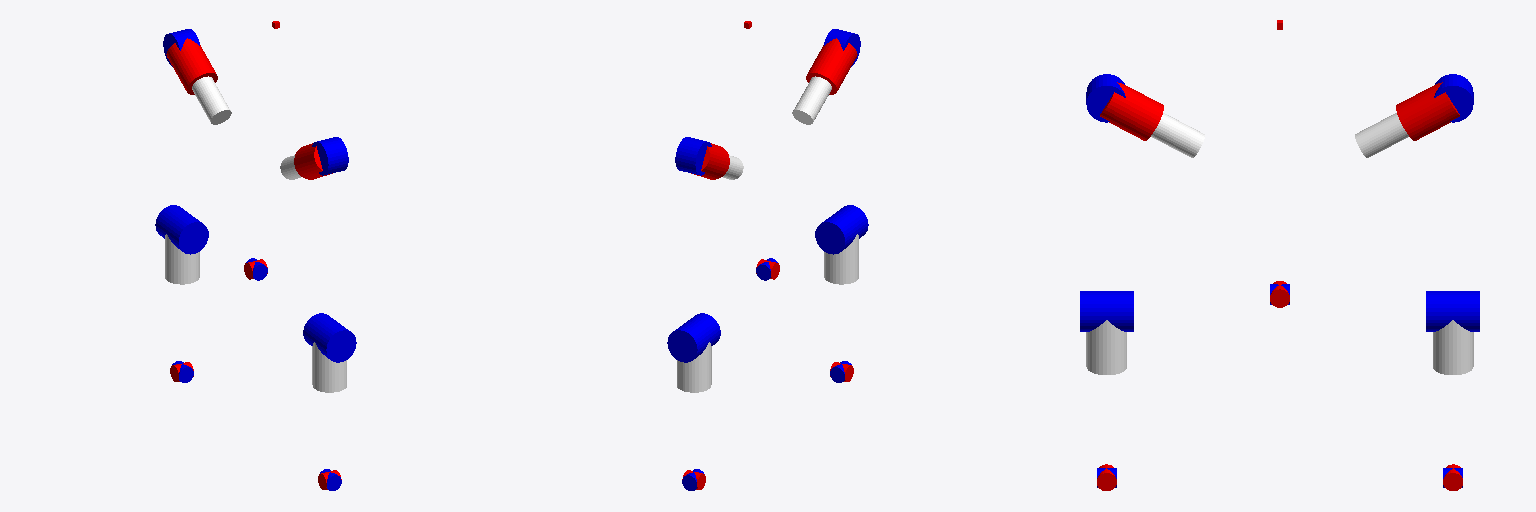
--- Facts derived from the render (not from the file) ---
Views: 3 orthographic renders of the robot side by side, from view 1: azimuth 30°, elevation 25°; view 2: azimuth 150°, elevation 25°; view 3: azimuth 270°, elevation 25°.
Model rx1 with 34 links and 33 joints (22 revolute, 11 fixed), rooted at base_link, posed all joints at 0.
Links seen in each view (by area): view 1: right_elbow_link, left_elbow_link, left_shoul_link, right_forearm_link, left_forearm_link, left_shoul_base_link, right_shoul_rot_link, right_shoul_link; view 2: right_elbow_link, left_elbow_link, right_shoul_link, left_forearm_link, right_forearm_link, right_shoul_base_link, left_shoul_rot_link, left_shoul_link; view 3: right_shoul_link, left_shoul_link, right_elbow_link, left_elbow_link, right_forearm_link, left_forearm_link, right_shoul_base_link, left_shoul_base_link, right_shoul_rot_link, left_shoul_rot_link.
Link boxes in pixels (x1,y1,x2,y2): right_elbow_link: (303, 313, 356, 362); left_elbow_link: (155, 205, 208, 254); left_shoul_link: (166, 38, 217, 94); right_forearm_link: (312, 342, 346, 392); left_forearm_link: (165, 234, 199, 284); left_shoul_base_link: (192, 76, 231, 124); right_shoul_rot_link: (312, 137, 348, 175); right_shoul_link: (294, 143, 332, 179); right_elbow_link: (815, 205, 868, 254); left_elbow_link: (667, 313, 720, 362); right_shoul_link: (806, 38, 857, 94); left_forearm_link: (677, 342, 711, 392); right_forearm_link: (824, 234, 858, 284); right_shoul_base_link: (792, 76, 831, 124); left_shoul_rot_link: (675, 137, 711, 175); left_shoul_link: (691, 143, 729, 179); right_shoul_link: (1100, 82, 1163, 140); left_shoul_link: (1396, 82, 1459, 140); right_elbow_link: (1080, 291, 1133, 331); left_elbow_link: (1426, 291, 1479, 331); right_forearm_link: (1086, 320, 1126, 374); left_forearm_link: (1433, 320, 1473, 374); right_shoul_base_link: (1151, 113, 1204, 157); left_shoul_base_link: (1355, 113, 1408, 157); right_shoul_rot_link: (1086, 74, 1125, 122); left_shoul_rot_link: (1434, 74, 1473, 122).
Size in the robot's own frame: 0.075 by 0.5885 by 0.7725 metres.
0 mesh visuals loaded from 17 distinct referenced files (none loaded); not drawn: 17 (reference not matched to a file when rendering).

URDF robot description (rx1):
<?xml version="1.0"?>
<robot name="rx1" version="1.0">
  <material name="red">
    <color rgba="1.0 0.0 0.0 1.0" />
  </material>
  <material name="white">
    <color rgba="1.0 1.0 1.0 1.0" />
  </material>
  <material name="blue">
    <color rgba="0.0 0.0 1.0 1.0" />
  </material>
  <link name="base_link">
    <inertial>
      <mass value="5.0" />
      <inertia ixx="0.1479926256185778" ixy="0.0" ixz="0.0" iyy="0.1480031283986734" iyz="0.0"
        izz="0.013240506334916875" />
    </inertial>
    <visual>
      <geometry>
        <mesh filename="../meshes/base_link.stl" />
      </geometry>
      <material name="white" />
    </visual>
    <collision>
      <geometry>
        <mesh filename="../meshes/base_link.stl" />
      </geometry>
    </collision>
  </link>
  <link name="torso_yaw_link">
    <inertial>
      <mass value="5.0" />
      <inertia ixx="0.044260708541198714" ixy="0.0" ixz="0.0" iyy="0.03589014892499002" iyz="0.0"
        izz="0.018270645342993348" />
    </inertial>
    <visual>
      <origin rpy="0.0 0.0 0.0" xyz="0.0 0.0 0.0" />
      <geometry>
        <mesh filename="../meshes/torso_yaw_link.stl" />
      </geometry>
      <material name="white" />
    </visual>
    <collision>
      <origin rpy="0.0 0.0 0.0" xyz="0.0 0.0 0.0" />
      <geometry>
        <mesh filename="../meshes/torso_yaw_link.stl" />
      </geometry>
    </collision>
  </link>
  <joint name="base2torso_yaw_joint" type="revolute">
    <origin rpy="0.0 0.0 0.0" xyz="0.0 0.0 0.5825" />
    <axis xyz="0.0 0.0 1.0" />
    <parent link="base_link" />
    <child link="torso_yaw_link" />
    <limit effort="50.0" lower="-1.57075" upper="1.57075" velocity="15.0" />
    <dynamics damping="0.5" friction="5.0" />
  </joint>
  <link name="torso_pitch_link">
    <inertial>
      <mass value="0.5" />
      <inertia ixx="6.5625e-05" ixy="0.0" ixz="0.0" iyy="6.5625e-05" iyz="0.0" izz="5.625e-05" />
    </inertial>
    <visual>
      <origin rpy="1.57075 0.0 0.0" xyz="0.0 0.0 0.0" />
      <geometry>
        <cylinder length="0.03" radius="0.015" />
      </geometry>
      <material name="blue" />
    </visual>
    <collision>
      <origin rpy="1.57075 0.0 0.0" xyz="0.0 0.0 0.0" />
      <geometry>
        <cylinder length="0.03" radius="0.01" />
      </geometry>
    </collision>
  </link>
  <joint name="torso_yaw2pitch_joint" type="revolute">
    <origin rpy="0.0 0.0 0.0" xyz="0.0 0.0 0.15" />
    <axis xyz="0.0 1.0 0.0" />
    <parent link="torso_yaw_link" />
    <child link="torso_pitch_link" />
    <limit effort="50.0" lower="-0.785375" upper="0.785375" velocity="15.0" />
    <dynamics damping="0.5" friction="0.1" />
  </joint>
  <link name="torso_roll_link">
    <inertial>
      <mass value="0.5" />
      <inertia ixx="6.5625e-05" ixy="0.0" ixz="0.0" iyy="6.5625e-05" iyz="0.0" izz="5.625e-05" />
    </inertial>
    <visual>
      <origin rpy="0.0 1.57075 0.0" xyz="0.0 0.0 0.0" />
      <geometry>
        <cylinder length="0.03" radius="0.015" />
      </geometry>
      <material name="red" />
    </visual>
    <collision>
      <origin rpy="0.0 1.57075 0.0" xyz="0.0 0.0 0.0" />
      <geometry>
        <cylinder length="0.03" radius="0.01" />
      </geometry>
    </collision>
  </link>
  <joint name="torso_pitch2roll_joint" type="revolute">
    <origin rpy="0.0 0.0 0.0" xyz="0.0 0.0 0.0" />
    <axis xyz="1.0 0.0 0.0" />
    <parent link="torso_pitch_link" />
    <child link="torso_roll_link" />
    <limit effort="50.0" lower="-0.785375" upper="0.785375" velocity="15.0" />
    <dynamics damping="0.5" friction="0.1" />
  </joint>
  <link name="torso_link">
    <inertial>
      <mass value="1.0" />
      <inertia ixx="0.00839643176338393" ixy="0.0" ixz="0.0" iyy="0.003718667304595339" iyz="0.0"
        izz="0.005448431209219654" />
    </inertial>
    <visual>
      <origin rpy="0.0 0.0 0.0" xyz="0.0 0.0 0.0" />
      <geometry>
        <mesh filename="../meshes/torso_link.stl" />
      </geometry>
      <material name="white" />
    </visual>
    <collision>
      <origin rpy="0.0 0.0 0.0" xyz="0.0 0.0 0.0" />
      <geometry>
        <mesh filename="../meshes/torso_link.stl" />
      </geometry>
    </collision>
  </link>
  <joint name="torso_roll2torso_joint" type="fixed">
    <origin rpy="0.0 0.0 0.0" xyz="0.0 0.0 0.08" />
    <parent link="torso_roll_link" />
    <child link="torso_link" />
  </joint>
  <link name="head_base_link">
    <inertial>
      <mass value="0.05" />
      <inertia ixx="3.4733338386813986e-05" ixy="0.0" ixz="0.0" iyy="2.3066669137279266e-05"
        iyz="0.0" izz="4.1666671633720553e-05" />
    </inertial>
    <visual>
      <origin rpy="0.0 0.0 0.0" xyz="0.0 0.0 0.0" />
      <geometry>
        <mesh filename="../meshes/head/head_base_link.stl" />
      </geometry>
      <material name="white" />
    </visual>
    <collision>
      <origin rpy="0.0 0.0 0.0" xyz="0.0 0.0 0.0" />
      <geometry>
        <mesh filename="../meshes/head/head_base_link.stl" />
      </geometry>
    </collision>
  </link>
  <joint name="torso2head_base_joint" type="fixed">
    <origin rpy="0.0 0.0 0.0" xyz="0.0 0.0 0.21" />
    <parent link="torso_link" />
    <child link="head_base_link" />
  </joint>
  <link name="neck_yaw_link">
    <inertial>
      <mass value="0.05" />
      <inertia ixx="2.6332792163843353e-05" ixy="0.0" ixz="0.0" iyy="3.551715988694438e-05"
        iyz="0.0" izz="2.3884367326730143e-05" />
    </inertial>
    <visual>
      <origin rpy="0.0 0.0 0.0" xyz="0.0 0.0 0.0" />
      <geometry>
        <mesh filename="../meshes/head/neck_yaw_link.stl" />
      </geometry>
      <material name="white" />
    </visual>
    <collision>
      <origin rpy="0.0 0.0 0.0" xyz="0.0 0.0 0.0" />
      <geometry>
        <mesh filename="../meshes/head/neck_yaw_link.stl" />
      </geometry>
    </collision>
  </link>
  <joint name="head_base2neck_yaw_joint" type="revolute">
    <origin rpy="0.0 0.0 0.0" xyz="0.0 0.0 0.0" />
    <axis xyz="0.0 0.0 1.0" />
    <parent link="head_base_link" />
    <child link="neck_yaw_link" />
    <limit effort="50.0" lower="-1.57075" upper="1.57075" velocity="15.0" />
    <dynamics damping="0.5" friction="0.1" />
  </joint>
  <link name="neck_pitch_link">
    <inertial>
      <mass value="0.05" />
      <inertia ixx="9.366899537678521e-05" ixy="0.0" ixz="0.0" iyy="9.765486239335953e-05" iyz="0.0"
        izz="2.9194203491569232e-05" />
    </inertial>
    <visual>
      <origin rpy="0.0 0.0 0.0" xyz="0.0 0.0 0.0" />
      <geometry>
        <mesh filename="../meshes/head/neck_pitch_link.stl" />
      </geometry>
      <material name="white" />
    </visual>
    <collision>
      <origin rpy="0.0 0.0 0.0" xyz="0.0 0.0 0.0" />
      <geometry>
        <mesh filename="../meshes/head/neck_pitch_link.stl" />
      </geometry>
    </collision>
  </link>
  <joint name="neck_yaw2pitch_joint" type="revolute">
    <origin rpy="0.0 0.0 0.0" xyz="0.0 0.0 0.035" />
    <axis xyz="0.0 1.0 0.0" />
    <parent link="neck_yaw_link" />
    <child link="neck_pitch_link" />
    <limit effort="50.0" lower="-1.57075" upper="1.57075" velocity="15.0" />
    <dynamics damping="0.5" friction="0.1" />
  </joint>
  <link name="head_depth_cam_mount_link">
    <inertial>
      <mass value="0.05" />
      <inertia ixx="0.00011445736975046934" ixy="0.0" ixz="0.0" iyy="4.306387919284874e-05"
        iyz="0.0" izz="0.00011610652434354089" />
    </inertial>
    <visual>
      <origin rpy="0.0 0.0 0.0" xyz="0.0 0.0 0.0" />
      <geometry>
        <mesh filename="../meshes/head/head_depth_cam_mount_link.stl" />
      </geometry>
      <material name="white" />
    </visual>
    <collision>
      <origin rpy="0.0 0.0 0.0" xyz="0.0 0.0 0.0" />
      <geometry>
        <mesh filename="../meshes/head/head_depth_cam_mount_link.stl" />
      </geometry>
    </collision>
  </link>
  <joint name="neck_pitch2head_depth_cam_mount_joint" type="revolute">
    <origin rpy="0.0 0.0 0.0" xyz="-0.01 0.0 0.1" />
    <axis xyz="1.0 0.0 0.0" />
    <parent link="neck_pitch_link" />
    <child link="head_depth_cam_mount_link" />
    <limit effort="50.0" lower="-1.57075" upper="1.57075" velocity="15.0" />
    <dynamics damping="0.1" friction="0.0" />
  </joint>
  <link name="camera_link">
    <inertial>
      <mass value="0.05" />
      <inertia ixx="8.333333333333333e-07" ixy="0.0" ixz="0.0" iyy="8.333333333333333e-07" iyz="0.0"
        izz="8.333333333333333e-07" />
    </inertial>
    <visual>
      <origin rpy="0.0 0.0 0.0" xyz="0.0 0.0 0.0" />
      <geometry>
        <box size="0.01 0.01 0.01" />
      </geometry>
      <material name="red" />
    </visual>
    <collision>
      <origin rpy="0.0 0.0 0.0" xyz="0.0 0.0 0.0" />
      <geometry>
        <box size="0.01 0.01 0.01" />
      </geometry>
    </collision>
  </link>
  <joint name="head_depth_cam_mount2camera_joint" type="fixed">
    <origin rpy="0.0 0.0 0.0" xyz="0.05 0.0 0.03" />
    <parent link="head_depth_cam_mount_link" />
    <child link="camera_link" />
  </joint>
  <link name="right_ear_link">
    <inertial>
      <mass value="0.05" />
      <inertia ixx="7.075414581789501e-05" ixy="0.0" ixz="0.0" iyy="7.708227986119268e-05" iyz="0.0"
        izz="7.00313496307216e-06" />
    </inertial>
    <visual>
      <origin rpy="0.0 0.0 0.0" xyz="0.0 0.0 0.0" />
      <geometry>
        <mesh filename="../meshes/head/right_ear_link.stl" />
      </geometry>
      <material name="white" />
    </visual>
    <collision>
      <origin rpy="0.0 0.0 0.0" xyz="0.0 0.0 0.0" />
      <geometry>
        <mesh filename="../meshes/head/right_ear_link.stl" />
      </geometry>
    </collision>
  </link>
  <joint name="head_depth_cam_mount2right_ear_joint" type="revolute">
    <origin rpy="0.0 0.0 0.0" xyz="0.0 -0.065 0.045" />
    <axis xyz="0.0 1.0 0.0" />
    <parent link="head_depth_cam_mount_link" />
    <child link="right_ear_link" />
    <limit effort="50.0" lower="-1.57075" upper="1.57075" velocity="15.0" />
    <dynamics damping="0.1" friction="0.0" />
  </joint>
  <link name="left_ear_link">
    <inertial>
      <mass value="0.05" />
      <inertia ixx="7.075414588774426e-05" ixy="0.0" ixz="0.0" iyy="7.708227861952545e-05" iyz="0.0"
        izz="7.003133791254161e-06" />
    </inertial>
    <visual>
      <origin rpy="0.0 0.0 0.0" xyz="0.0 0.0 0.0" />
      <geometry>
        <mesh filename="../meshes/head/left_ear_link.stl" />
      </geometry>
      <material name="white" />
    </visual>
    <collision>
      <origin rpy="0.0 0.0 0.0" xyz="0.0 0.0 0.0" />
      <geometry>
        <mesh filename="../meshes/head/left_ear_link.stl" />
      </geometry>
    </collision>
  </link>
  <joint name="head_depth_cam_mount2left_ear_joint" type="revolute">
    <origin rpy="0.0 0.0 0.0" xyz="0.0 0.065 0.045" />
    <axis xyz="0.0 1.0 0.0" />
    <parent link="head_depth_cam_mount_link" />
    <child link="left_ear_link" />
    <limit effort="50.0" lower="-1.57075" upper="1.57075" velocity="15.0" />
    <dynamics damping="0.1" friction="0.0" />
  </joint>
  <link name="right_shoul_base_link">
    <inertial>
      <mass value="0.2" />
      <inertia ixx="0.00011374999999999999" ixy="0.0" ixz="0.0" iyy="0.00011374999999999999"
        iyz="0.0" izz="4e-05" />
    </inertial>
    <visual>
      <origin rpy="0.0 0.0 0.0" xyz="0.0 0.0 0.0375" />
      <geometry>
        <cylinder length="0.075" radius="0.02" />
      </geometry>
      <material name="white" />
    </visual>
    <collision>
      <origin rpy="0.0 0.0 0.0" xyz="0.0 0.0 0.0375" />
      <geometry>
        <cylinder length="0.075" radius="0.02" />
      </geometry>
    </collision>
  </link>
  <joint name="head_base2right_shoul_base_joint" type="fixed">
    <origin rpy="1.04706195 0.0 0.0" xyz="0.0 -0.12 -0.05" />
    <parent link="head_base_link" />
    <child link="right_shoul_base_link" />
  </joint>
  <link name="right_shoul_link">
    <inertial>
      <mass value="0.2" />
      <inertia ixx="0.00015166666666666668" ixy="0.0" ixz="0.0" iyy="0.00015166666666666668"
        iyz="0.0" izz="9e-05" />
    </inertial>
    <visual>
      <origin rpy="0.0 0.0 0.0" xyz="0.0 0.0 0.04" />
      <geometry>
        <cylinder length="0.08" radius="0.03" />
      </geometry>
      <material name="red" />
    </visual>
    <collision>
      <origin rpy="0.0 0.0 0.0" xyz="0.0 0.0 0.04" />
      <geometry>
        <cylinder length="0.08" radius="0.03" />
      </geometry>
    </collision>
  </link>
  <joint name="right_shoul_base2shoul_joint" type="revolute">
    <origin rpy="0.0 0.0 0.0" xyz="0.0 0.0 0.075" />
    <axis xyz="0.0 0.0 1.0" />
    <parent link="right_shoul_base_link" />
    <child link="right_shoul_link" />
    <limit effort="50.0" lower="-2.5132000000000003" upper="2.5132000000000003" velocity="15.0" />
    <dynamics damping="0.5" friction="0.1" />
  </joint>
  <link name="right_shoul_rot_link">
    <inertial>
      <mass value="0.2" />
      <inertia ixx="7.166666666666667e-05" ixy="0.0" ixz="0.0" iyy="7.166666666666667e-05" iyz="0.0"
        izz="9e-05" />
    </inertial>
    <visual>
      <origin rpy="0.0 1.57075 0.0" xyz="0.0 0.0 0.0" />
      <geometry>
        <cylinder length="0.04" radius="0.03" />
      </geometry>
      <material name="blue" />
    </visual>
    <collision>
      <origin rpy="0.0 1.57075 0.0" xyz="0.0 0.0 0.0" />
      <geometry>
        <cylinder length="0.04" radius="0.03" />
      </geometry>
    </collision>
  </link>
  <joint name="right_shoul2shoul_rot_joint" type="revolute">
    <origin rpy="-1.04706195 0.0 0.0" xyz="0.0 0.0 0.08" />
    <axis xyz="1.0 0.0 0.0" />
    <parent link="right_shoul_link" />
    <child link="right_shoul_rot_link" />
    <limit effort="50.0" lower="-1.57075" upper="0.5026400000000001" velocity="15.0" />
    <dynamics damping="0.5" friction="0.1" />
  </joint>
  <link name="right_upper_arm_link">
    <inertial>
      <mass value="0.1" />
      <inertia ixx="0.00026469309370525756" ixy="0.0" ixz="0.0" iyy="0.000295128481794064" iyz="0.0"
        izz="9.863136459929792e-05" />
    </inertial>
    <visual>
      <origin rpy="0.0 0.0 0.0" xyz="0.0 0.0 0.0" />
      <geometry>
        <mesh filename="../meshes/right_arm/right_upper_arm_link.stl" />
      </geometry>
      <material name="white" />
    </visual>
    <collision>
      <origin rpy="0.0 0.0 0.0" xyz="0.0 0.0 0.0" />
      <geometry>
        <mesh filename="../meshes/right_arm/right_upper_arm_link.stl" />
      </geometry>
    </collision>
  </link>
  <joint name="right_shoul_rot2upper_arm_joint" type="fixed">
    <origin rpy="0.0 0.0 0.0" xyz="0.0 0.0 -0.0625" />
    <parent link="right_shoul_rot_link" />
    <child link="right_upper_arm_link" />
  </joint>
  <link name="right_armrot_link">
    <inertial>
      <mass value="0.1" />
      <inertia ixx="0.000573437191095085" ixy="0.0" ixz="0.0" iyy="0.0005528666733185454" iyz="0.0"
        izz="8.463719774696362e-05" />
    </inertial>
    <visual>
      <origin rpy="0.0 0.0 0.0" xyz="0.0 0.0 -0.11" />
      <geometry>
        <mesh filename="../meshes/right_arm/right_elbow_link.stl" />
      </geometry>
      <material name="white" />
    </visual>
    <collision>
      <origin rpy="0.0 0.0 0.0" xyz="0.0 0.0 -0.11" />
      <geometry>
        <cylinder length="0.22" radius="0.03" />
      </geometry>
    </collision>
  </link>
  <joint name="right_arm2armrot_joint" type="revolute">
    <origin rpy="0.0 0.0 0.0" xyz="0.0 0.0 -0.0625" />
    <axis xyz="0.0 0.0 1.0" />
    <parent link="right_upper_arm_link" />
    <child link="right_armrot_link" />
    <limit effort="50.0" lower="-1.57075" upper="1.57075" velocity="15.0" />
    <dynamics damping="0.1" friction="0.1" />
  </joint>
  <link name="right_elbow_link">
    <inertial>
      <mass value="0.1" />
      <inertia ixx="7.583333333333334e-05" ixy="0.0" ixz="0.0" iyy="7.583333333333334e-05" iyz="0.0"
        izz="4.5e-05" />
    </inertial>
    <visual>
      <origin rpy="0.0 1.57075 -1.57075" xyz="0.0 0.0 0.0" />
      <geometry>
        <cylinder length="0.08" radius="0.03" />
      </geometry>
      <material name="blue" />
    </visual>
    <collision>
      <origin rpy="0.0 1.57075 -1.57075" xyz="0.0 0.0 0.0" />
      <geometry>
        <cylinder length="0.08" radius="0.03" />
      </geometry>
    </collision>
  </link>
  <joint name="right_armrot2elbow_joint" type="revolute">
    <origin rpy="0.0 0.0 0.0" xyz="0.0 0.0 -0.22" />
    <axis xyz="0.0 1.0 0.0" />
    <parent link="right_armrot_link" />
    <child link="right_elbow_link" />
    <limit effort="50.0" lower="-2.19905" upper="0.0" velocity="15.0" />
    <dynamics damping="0.1" friction="0.1" />
  </joint>
  <link name="right_forearm_link">
    <inertial>
      <mass value="0.1" />
      <inertia ixx="9e-05" ixy="0.0" ixz="0.0" iyy="9e-05" iyz="0.0" izz="4.5e-05" />
    </inertial>
    <visual>
      <origin rpy="0.0 0.0 0.0" xyz="0.0 0.0 0.0" />
      <geometry>
        <cylinder length="0.09" radius="0.03" />
      </geometry>
      <material name="white" />
    </visual>
    <collision>
      <origin rpy="0.0 0.0 0.0" xyz="0.0 0.0 0.0" />
      <geometry>
        <cylinder length="0.09" radius="0.03" />
      </geometry>
    </collision>
  </link>
  <joint name="right_elbow2forearm_joint" type="fixed">
    <origin rpy="0.0 0.0 0.0" xyz="0.0 0.0 -0.045" />
    <parent link="right_elbow_link" />
    <child link="right_forearm_link" />
  </joint>
  <link name="right_forearmrot_link">
    <inertial>
      <mass value="0.1" />
      <inertia ixx="0.00038840639708807395" ixy="0.0" ixz="0.0" iyy="0.00039995180679971244"
        iyz="0.0" izz="0.00011242609109381833" />
    </inertial>
    <visual>
      <origin rpy="0.0 0.0 0.0" xyz="0.0 0.0 -0.09" />
      <geometry>
        <mesh filename="../meshes/right_arm/right_forearm_link.stl" />
      </geometry>
      <material name="white" />
    </visual>
    <collision>
      <origin rpy="0.0 0.0 0.0" xyz="0.0 0.0 -0.09" />
      <geometry>
        <cylinder length="0.18" radius="0.015" />
      </geometry>
    </collision>
  </link>
  <joint name="right_forearm2forearmrot_joint" type="revolute">
    <origin rpy="0.0 0.0 0.0" xyz="0.0 0.0 -0.045" />
    <axis xyz="0.0 0.0 1.0" />
    <parent link="right_forearm_link" />
    <child link="right_forearmrot_link" />
    <limit effort="50.0" lower="-1.57075" upper="1.57075" velocity="15.0" />
    <dynamics damping="0.1" friction="0.1" />
  </joint>
  <link name="right_forearm_pitch_link">
    <inertial>
      <mass value="0.1" />
      <inertia ixx="1.3125e-05" ixy="0.0" ixz="0.0" iyy="1.3125e-05" iyz="0.0" izz="1.125e-05" />
    </inertial>
    <visual>
      <origin rpy="1.57075 0.0 0.0" xyz="0.0 0.0 0.0" />
      <geometry>
        <cylinder length="0.03" radius="0.015" />
      </geometry>
      <material name="blue" />
    </visual>
    <collision>
      <origin rpy="1.57075 0.0 0.0" xyz="0.0 0.0 0.0" />
      <geometry>
        <cylinder length="0.03" radius="0.01" />
      </geometry>
    </collision>
  </link>
  <joint name="right_forearmrot2forearm_pitch_joint" type="revolute">
    <origin rpy="0.0 0.0 0.0" xyz="0.0 0.0 -0.18" />
    <axis xyz="0.0 1.0 0.0" />
    <parent link="right_forearmrot_link" />
    <child link="right_forearm_pitch_link" />
    <limit effort="50.0" lower="-0.785375" upper="0.785375" velocity="15.0" />
    <dynamics damping="0.1" friction="0.1" />
  </joint>
  <link name="right_forearm_roll_link">
    <inertial>
      <mass value="0.1" />
      <inertia ixx="1.3125e-05" ixy="0.0" ixz="0.0" iyy="1.3125e-05" iyz="0.0" izz="1.125e-05" />
    </inertial>
    <visual>
      <origin rpy="0.0 1.57075 0.0" xyz="0.0 0.0 0.0" />
      <geometry>
        <cylinder length="0.03" radius="0.015" />
      </geometry>
      <material name="red" />
    </visual>
    <collision>
      <origin rpy="0.0 1.57075 0.0" xyz="0.0 0.0 0.0" />
      <geometry>
        <cylinder length="0.03" radius="0.01" />
      </geometry>
    </collision>
  </link>
  <joint name="right_forearm_pitch2forearm_roll_joint" type="revolute">
    <origin rpy="0.0 0.0 0.0" xyz="0.0 0.0 0.0" />
    <axis xyz="1.0 0.0 0.0" />
    <parent link="right_forearm_pitch_link" />
    <child link="right_forearm_roll_link" />
    <limit effort="50.0" lower="-0.785375" upper="0.785375" velocity="15.0" />
    <dynamics damping="0.1" friction="0.1" />
  </joint>
  <link name="right_hand_link">
    <inertial>
      <mass value="0.1" />
      <inertia ixx="0.00037829940287649005" ixy="0.0" ixz="0.0" iyy="0.00038270930455677987"
        iyz="0.0" izz="0.00012288547830465965" />
    </inertial>
    <visual>
      <origin rpy="0.0 0.0 0.0" xyz="0.0 0.0 0.0" />
      <geometry>
        <mesh filename="../meshes/right_arm/right_hand_link.stl" />
      </geometry>
      <material name="white" />
    </visual>
    <collision>
      <origin rpy="0.0 0.0 0.0" xyz="0.0 0.0 0.0" />
      <geometry>
        <box size="0.04 0.02 0.12" />
      </geometry>
    </collision>
  </link>
  <joint name="right_forearm_roll2hand_joint" type="fixed">
    <origin rpy="0.0 0.0 0.0" xyz="0.0 0.0 -0.1" />
    <parent link="right_forearm_roll_link" />
    <child link="right_hand_link" />
  </joint>
  <link name="left_shoul_base_link">
    <inertial>
      <mass value="0.2" />
      <inertia ixx="0.00011374999999999999" ixy="0.0" ixz="0.0" iyy="0.00011374999999999999"
        iyz="0.0" izz="4e-05" />
    </inertial>
    <visual>
      <origin rpy="0.0 0.0 0.0" xyz="0.0 0.0 0.0375" />
      <geometry>
        <cylinder length="0.075" radius="0.02" />
      </geometry>
      <material name="white" />
    </visual>
    <collision>
      <origin rpy="0.0 0.0 0.0" xyz="0.0 0.0 0.0375" />
      <geometry>
        <cylinder length="0.075" radius="0.02" />
      </geometry>
    </collision>
  </link>
  <joint name="head_base2left_shoul_base_joint" type="fixed">
    <origin rpy="-1.04706195 0.0 0.0" xyz="0.0 0.12 -0.05" />
    <parent link="head_base_link" />
    <child link="left_shoul_base_link" />
  </joint>
  <link name="left_shoul_link">
    <inertial>
      <mass value="0.2" />
      <inertia ixx="0.00015166666666666668" ixy="0.0" ixz="0.0" iyy="0.00015166666666666668"
        iyz="0.0" izz="9e-05" />
    </inertial>
    <visual>
      <origin rpy="0.0 0.0 0.0" xyz="0.0 0.0 0.04" />
      <geometry>
        <cylinder length="0.08" radius="0.03" />
      </geometry>
      <material name="red" />
    </visual>
    <collision>
      <origin rpy="0.0 0.0 0.0" xyz="0.0 0.0 0.04" />
      <geometry>
        <cylinder length="0.08" radius="0.03" />
      </geometry>
    </collision>
  </link>
  <joint name="left_shoul_base2shoul_joint" type="revolute">
    <origin rpy="0.0 0.0 0.0" xyz="0.0 0.0 0.075" />
    <axis xyz="0.0 0.0 1.0" />
    <parent link="left_shoul_base_link" />
    <child link="left_shoul_link" />
    <limit effort="50.0" lower="-2.5132000000000003" upper="2.5132000000000003" velocity="15.0" />
    <dynamics damping="0.5" friction="0.1" />
  </joint>
  <link name="left_shoul_rot_link">
    <inertial>
      <mass value="0.2" />
      <inertia ixx="7.166666666666667e-05" ixy="0.0" ixz="0.0" iyy="7.166666666666667e-05" iyz="0.0"
        izz="9e-05" />
    </inertial>
    <visual>
      <origin rpy="0.0 1.57075 0.0" xyz="0.0 0.0 0.0" />
      <geometry>
        <cylinder length="0.04" radius="0.03" />
      </geometry>
      <material name="blue" />
    </visual>
    <collision>
      <origin rpy="0.0 1.57075 0.0" xyz="0.0 0.0 0.0" />
      <geometry>
        <cylinder length="0.04" radius="0.03" />
      </geometry>
    </collision>
  </link>
  <joint name="left_shoul2shoul_rot_joint" type="revolute">
    <origin rpy="1.04706195 0.0 0.0" xyz="0.0 0.0 0.08" />
    <axis xyz="1.0 0.0 0.0" />
    <parent link="left_shoul_link" />
    <child link="left_shoul_rot_link" />
    <limit effort="50.0" lower="-0.5026400000000001" upper="1.57075" velocity="15.0" />
    <dynamics damping="0.5" friction="0.1" />
  </joint>
  <link name="left_upper_arm_link">
    <inertial>
      <mass value="0.1" />
      <inertia ixx="0.00026469309370525756" ixy="0.0" ixz="0.0" iyy="0.000295128481794064" iyz="0.0"
        izz="9.863136459929792e-05" />
    </inertial>
    <visual>
      <origin rpy="0.0 0.0 0.0" xyz="0.0 0.0 0.0" />
      <geometry>
        <mesh filename="../meshes/left_arm/left_upper_arm_link.stl" />
      </geometry>
      <material name="white" />
    </visual>
    <collision>
      <origin rpy="0.0 0.0 0.0" xyz="0.0 0.0 0.0" />
      <geometry>
        <mesh filename="../meshes/left_arm/left_upper_arm_link.stl" />
      </geometry>
    </collision>
  </link>
  <joint name="left_shoul_rot2upper_arm_joint" type="fixed">
    <origin rpy="0.0 0.0 0.0" xyz="0.0 0.0 -0.0625" />
    <parent link="left_shoul_rot_link" />
    <child link="left_upper_arm_link" />
  </joint>
  <link name="left_armrot_link">
    <inertial>
      <mass value="0.1" />
      <inertia ixx="0.000573437191095085" ixy="0.0" ixz="0.0" iyy="0.0005528666771680125" iyz="0.0"
        izz="8.463720159643078e-05" />
    </inertial>
    <visual>
      <origin rpy="0.0 0.0 0.0" xyz="0.0 0.0 -0.11" />
      <geometry>
        <mesh filename="../meshes/left_arm/left_elbow_link.stl" />
      </geometry>
      <material name="white" />
    </visual>
    <collision>
      <origin rpy="0.0 0.0 0.0" xyz="0.0 0.0 -0.11" />
      <geometry>
        <cylinder length="0.22" radius="0.03" />
      </geometry>
    </collision>
  </link>
  <joint name="left_arm2armrot_joint" type="revolute">
    <origin rpy="0.0 0.0 0.0" xyz="0.0 0.0 -0.0625" />
    <axis xyz="0.0 0.0 1.0" />
    <parent link="left_upper_arm_link" />
    <child link="left_armrot_link" />
    <limit effort="50.0" lower="-1.57075" upper="1.57075" velocity="15.0" />
    <dynamics damping="0.1" friction="0.1" />
  </joint>
  <link name="left_elbow_link">
    <inertial>
      <mass value="0.1" />
      <inertia ixx="7.583333333333334e-05" ixy="0.0" ixz="0.0" iyy="7.583333333333334e-05" iyz="0.0"
        izz="4.5e-05" />
    </inertial>
    <visual>
      <origin rpy="0.0 -1.57075 -1.57075" xyz="0.0 0.0 0.0" />
      <geometry>
        <cylinder length="0.08" radius="0.03" />
      </geometry>
      <material name="blue" />
    </visual>
    <collision>
      <origin rpy="0.0 -1.57075 -1.57075" xyz="0.0 0.0 0.0" />
      <geometry>
        <cylinder length="0.08" radius="0.03" />
      </geometry>
    </collision>
  </link>
  <joint name="left_armrot2elbow_joint" type="revolute">
    <origin rpy="0.0 0.0 0.0" xyz="0.0 0.0 -0.22" />
    <axis xyz="0.0 1.0 0.0" />
    <parent link="left_armrot_link" />
    <child link="left_elbow_link" />
    <limit effort="50.0" lower="-2.19905" upper="0.0" velocity="15.0" />
    <dynamics damping="0.1" friction="0.1" />
  </joint>
  <link name="left_forearm_link">
    <inertial>
      <mass value="0.1" />
      <inertia ixx="9e-05" ixy="0.0" ixz="0.0" iyy="9e-05" iyz="0.0" izz="4.5e-05" />
    </inertial>
    <visual>
      <origin rpy="0.0 0.0 0.0" xyz="0.0 0.0 0.0" />
      <geometry>
        <cylinder length="0.09" radius="0.03" />
      </geometry>
      <material name="white" />
    </visual>
    <collision>
      <origin rpy="0.0 0.0 0.0" xyz="0.0 0.0 0.0" />
      <geometry>
        <cylinder length="0.09" radius="0.03" />
      </geometry>
    </collision>
  </link>
  <joint name="left_elbow2forearm_joint" type="fixed">
    <origin rpy="0.0 0.0 0.0" xyz="0.0 0.0 -0.045" />
    <parent link="left_elbow_link" />
    <child link="left_forearm_link" />
  </joint>
  <link name="left_forearmrot_link">
    <inertial>
      <mass value="0.1" />
      <inertia ixx="0.00038840639708807395" ixy="0.0" ixz="0.0" iyy="0.00039995180679971244"
        iyz="0.0" izz="0.00011242609109381833" />
    </inertial>
    <visual>
      <origin rpy="0.0 0.0 0.0" xyz="0.0 0.0 -0.09" />
      <geometry>
        <mesh filename="../meshes/left_arm/left_forearm_link.stl" />
      </geometry>
      <material name="white" />
    </visual>
    <collision>
      <origin rpy="0.0 0.0 0.0" xyz="0.0 0.0 -0.09" />
      <geometry>
        <cylinder length="0.18" radius="0.015" />
      </geometry>
    </collision>
  </link>
  <joint name="left_forearm2forearmrot_joint" type="revolute">
    <origin rpy="0.0 0.0 0.0" xyz="0.0 0.0 -0.045" />
    <axis xyz="0.0 0.0 1.0" />
    <parent link="left_forearm_link" />
    <child link="left_forearmrot_link" />
    <limit effort="50.0" lower="-1.57075" upper="1.57075" velocity="15.0" />
    <dynamics damping="0.1" friction="0.1" />
  </joint>
  <link name="left_forearm_pitch_link">
    <inertial>
      <mass value="0.1" />
      <inertia ixx="1.3125e-05" ixy="0.0" ixz="0.0" iyy="1.3125e-05" iyz="0.0" izz="1.125e-05" />
    </inertial>
    <visual>
      <origin rpy="-1.57075 0.0 0.0" xyz="0.0 0.0 0.0" />
      <geometry>
        <cylinder length="0.03" radius="0.015" />
      </geometry>
      <material name="blue" />
    </visual>
    <collision>
      <origin rpy="-1.57075 0.0 0.0" xyz="0.0 0.0 0.0" />
      <geometry>
        <cylinder length="0.03" radius="0.01" />
      </geometry>
    </collision>
  </link>
  <joint name="left_forearmrot2forearm_pitch_joint" type="revolute">
    <origin rpy="0.0 0.0 0.0" xyz="0.0 0.0 -0.18" />
    <axis xyz="0.0 1.0 0.0" />
    <parent link="left_forearmrot_link" />
    <child link="left_forearm_pitch_link" />
    <limit effort="50.0" lower="-0.785375" upper="0.785375" velocity="15.0" />
    <dynamics damping="0.1" friction="0.1" />
  </joint>
  <link name="left_forearm_roll_link">
    <inertial>
      <mass value="0.1" />
      <inertia ixx="1.3125e-05" ixy="0.0" ixz="0.0" iyy="1.3125e-05" iyz="0.0" izz="1.125e-05" />
    </inertial>
    <visual>
      <origin rpy="0.0 -1.57075 0.0" xyz="0.0 0.0 0.0" />
      <geometry>
        <cylinder length="0.03" radius="0.015" />
      </geometry>
      <material name="red" />
    </visual>
    <collision>
      <origin rpy="0.0 -1.57075 0.0" xyz="0.0 0.0 0.0" />
      <geometry>
        <cylinder length="0.03" radius="0.01" />
      </geometry>
    </collision>
  </link>
  <joint name="left_forearm_pitch2forearm_roll_joint" type="revolute">
    <origin rpy="0.0 0.0 0.0" xyz="0.0 0.0 0.0" />
    <axis xyz="1.0 0.0 0.0" />
    <parent link="left_forearm_pitch_link" />
    <child link="left_forearm_roll_link" />
    <limit effort="50.0" lower="-0.785375" upper="0.785375" velocity="15.0" />
    <dynamics damping="0.1" friction="0.1" />
  </joint>
  <link name="left_hand_link">
    <inertial>
      <mass value="0.1" />
      <inertia ixx="0.000378299413346062" ixy="0.0" ixz="0.0" iyy="0.00038270929370450474" iyz="0.0"
        izz="0.00012288547792195653" />
    </inertial>
    <visual>
      <origin rpy="0.0 0.0 0.0" xyz="0.0 0.0 0.0" />
      <geometry>
        <mesh filename="../meshes/left_arm/left_hand_link.stl" />
      </geometry>
      <material name="white" />
    </visual>
    <collision>
      <origin rpy="0.0 0.0 0.0" xyz="0.0 0.0 0.0" />
      <geometry>
        <box size="0.04 0.02 0.12" />
      </geometry>
    </collision>
  </link>
  <joint name="left_forearm_roll2hand_joint" type="fixed">
    <origin rpy="0.0 0.0 0.0" xyz="0.0 0.0 -0.1" />
    <parent link="left_forearm_roll_link" />
    <child link="left_hand_link" />
  </joint>
</robot>
